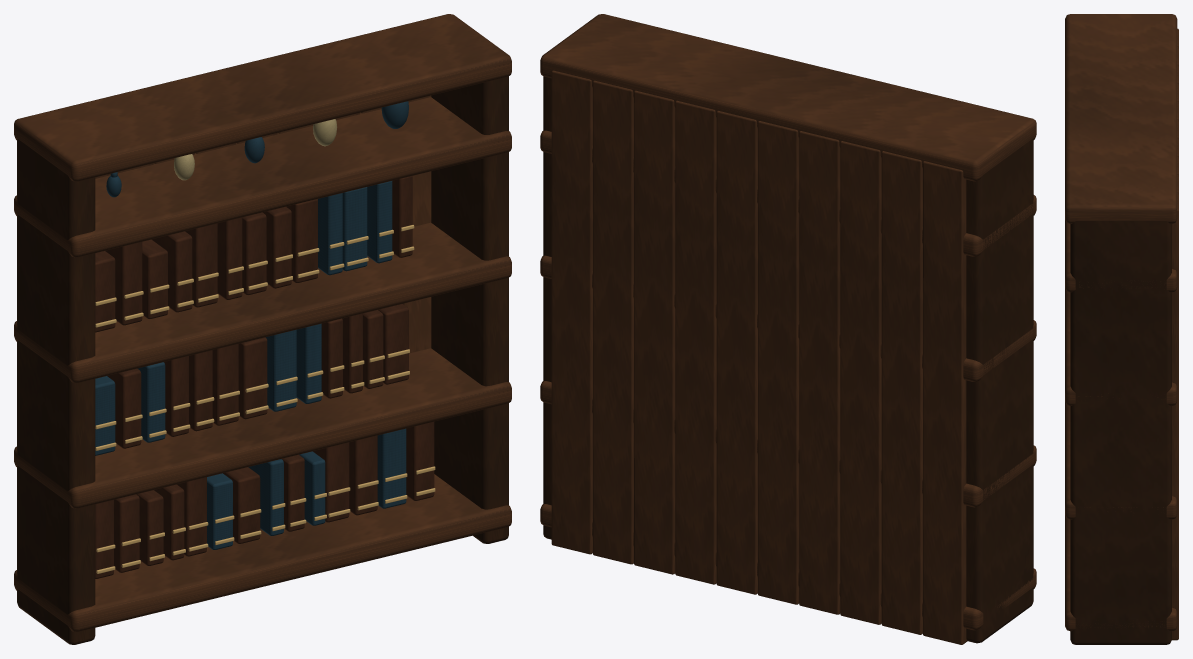
Rendered from bookcase.glb.
The picture shows the model from 3 angles, left to right: view 1: azimuth 30°, elevation 25°; view 2: azimuth 150°, elevation 25°; view 3: azimuth 270°, elevation 25°; orthographic projection. The views are drawn at different scales.
Parts seen in each view (by area): view 1: bookcase_oak, bookcase_dark_oak, bookcase_leather, bookcase_blue_wool, bookcase_brass, bookcase_linen; view 2: bookcase_oak, bookcase_dark_oak; view 3: bookcase_dark_oak, bookcase_oak.
Boxes of the visible parts, <box> form: bookcase_oak: <box>14,14,511,631</box>; bookcase_dark_oak: <box>17,76,508,644</box>; bookcase_leather: <box>95,176,434,578</box>; bookcase_blue_wool: <box>95,101,408,549</box>; bookcase_brass: <box>95,225,435,573</box>; bookcase_linen: <box>174,119,337,180</box>; bookcase_oak: <box>540,14,1036,644</box>; bookcase_dark_oak: <box>543,76,1033,643</box>; bookcase_dark_oak: <box>1070,221,1171,644</box>; bookcase_oak: <box>1065,14,1178,640</box>.
Bounding box in the file's own units: 2.13 × 2.25 × 0.5275.
Materials: 6 (5 with a texture image).
